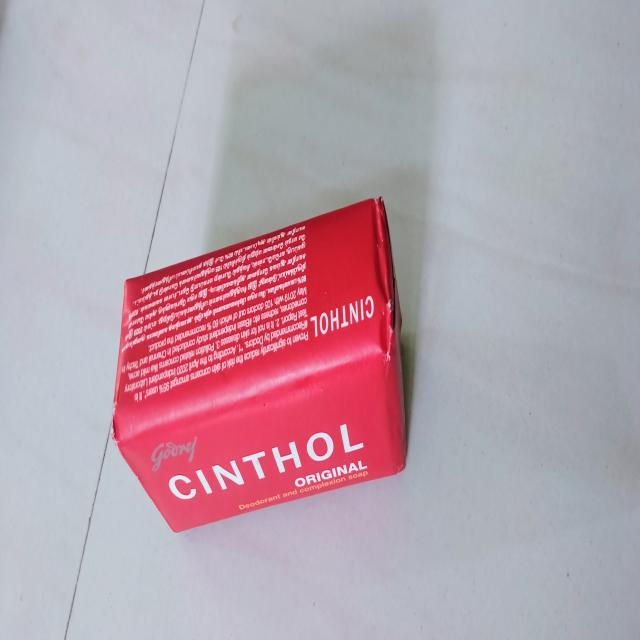soap: (110, 195, 407, 539)
